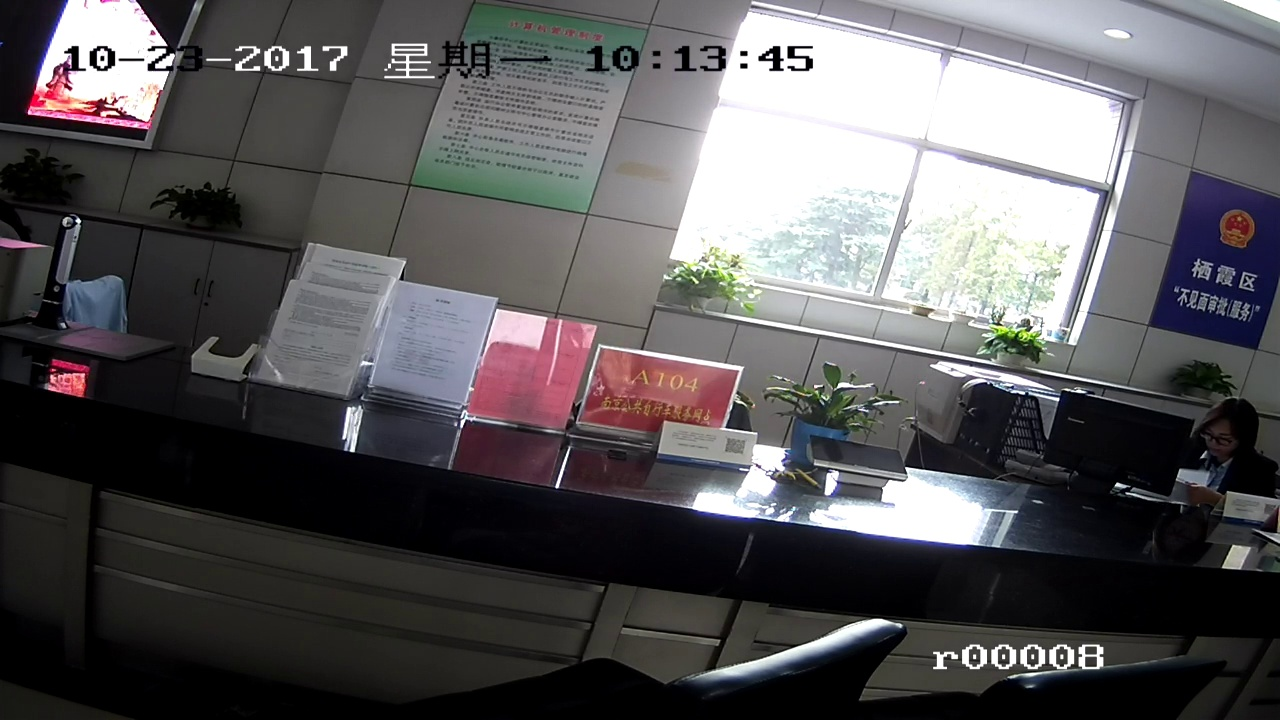billboard: (449, 3, 584, 215), (1178, 166, 1264, 345), (578, 350, 730, 442)
person: (1202, 402, 1254, 471)
pot: (770, 363, 877, 454), (672, 254, 752, 317), (158, 180, 243, 235), (982, 313, 1047, 374)
